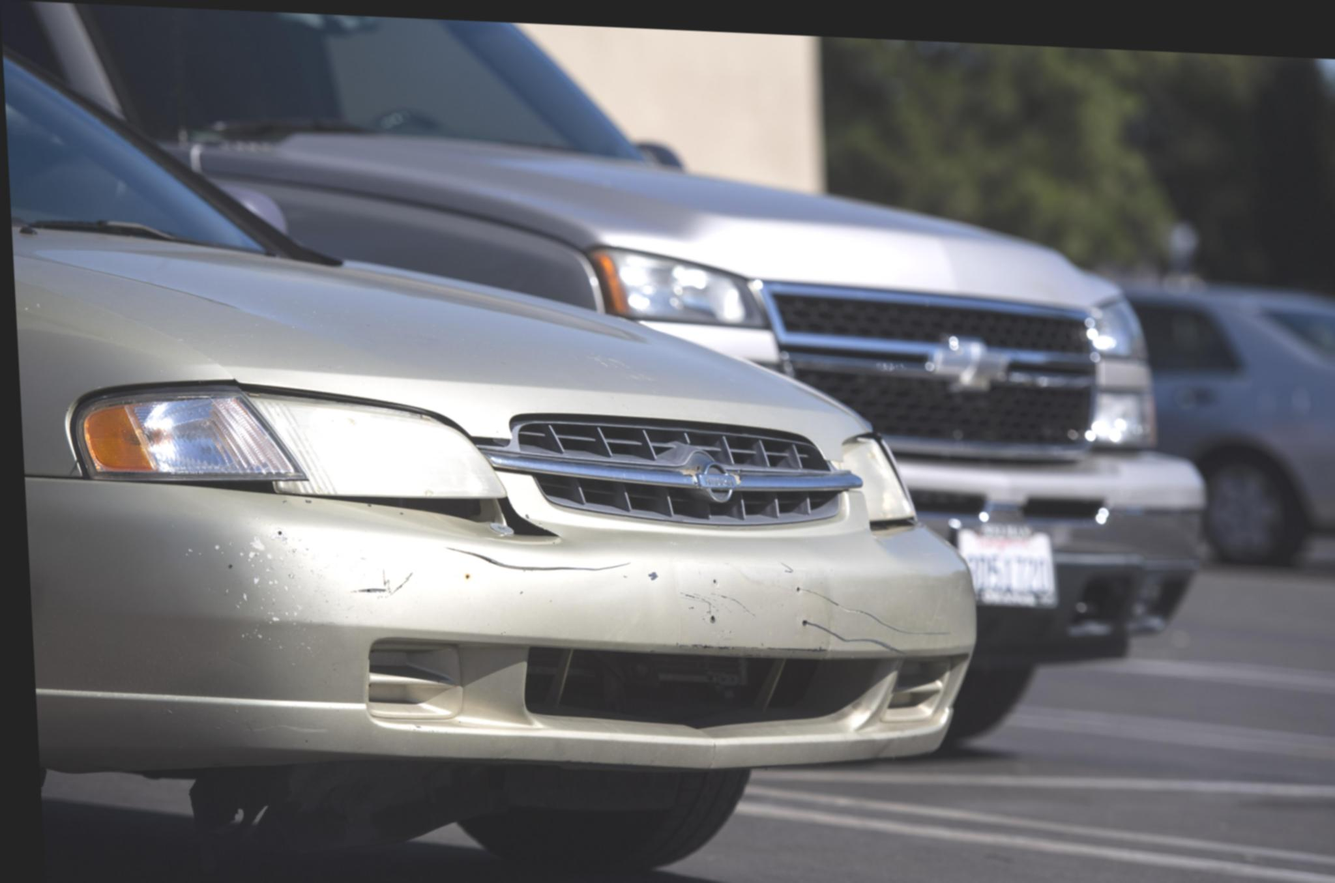License_Plate: (954, 528, 1071, 610)
